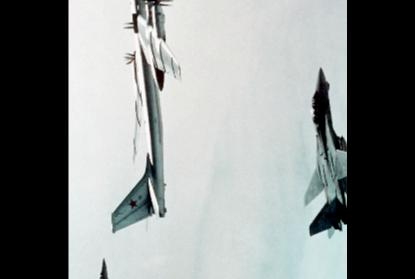EF2000: (303, 65, 346, 239)
F117: (97, 257, 117, 278)
Su57: (107, 0, 182, 234)
